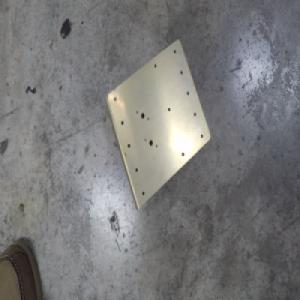MetalSheet: (103, 36, 211, 212)
